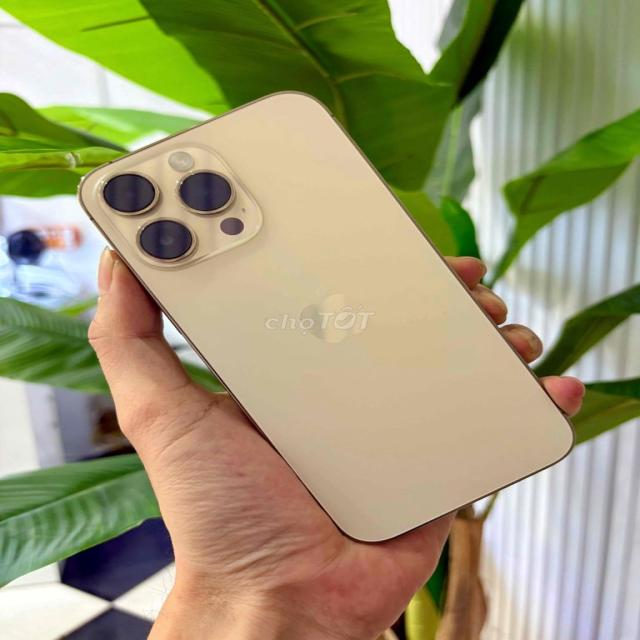gen_14: (68, 84, 578, 545)
